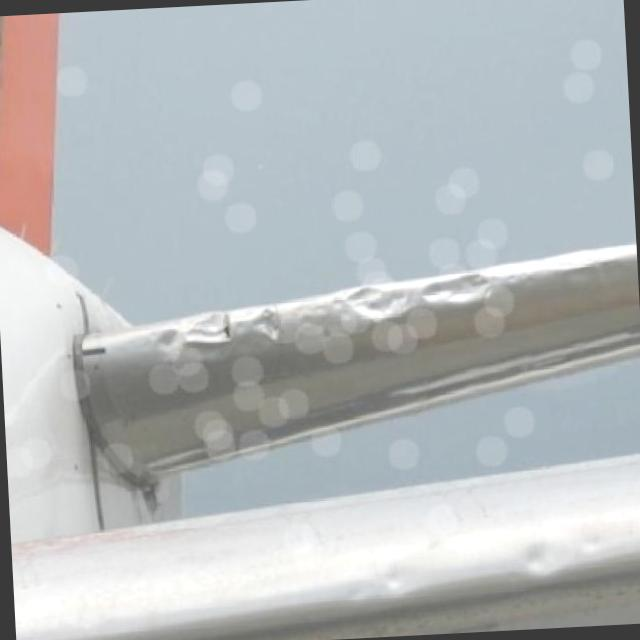dent: (496, 252, 581, 292), (414, 272, 492, 312), (349, 286, 416, 320), (188, 310, 238, 352), (149, 320, 190, 362), (518, 539, 556, 577), (256, 304, 288, 348), (371, 564, 409, 598), (292, 306, 326, 338), (332, 292, 352, 330)
